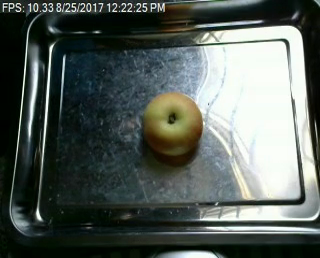Apple: (138, 90, 208, 158)
